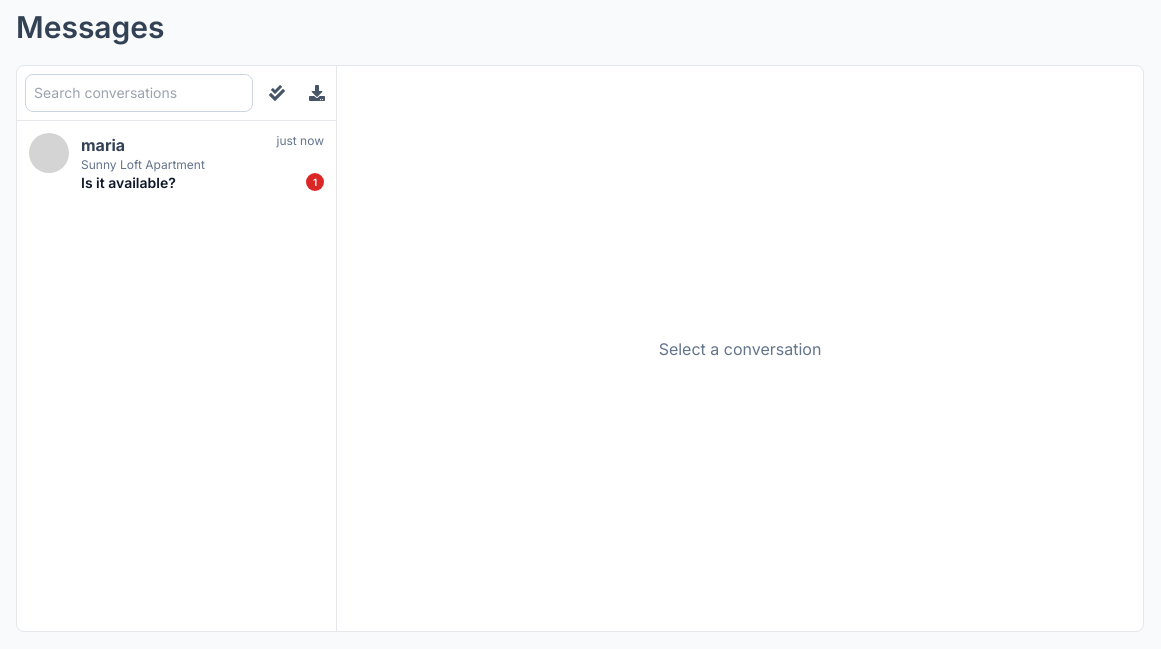
Test: Messages page › filters conversations by search
Expected: the text "maria" is shown, [81,133,125,157]
In the search field labelled "Search conversations": point(139, 93) [25,74,253,112], type "nothing matches"
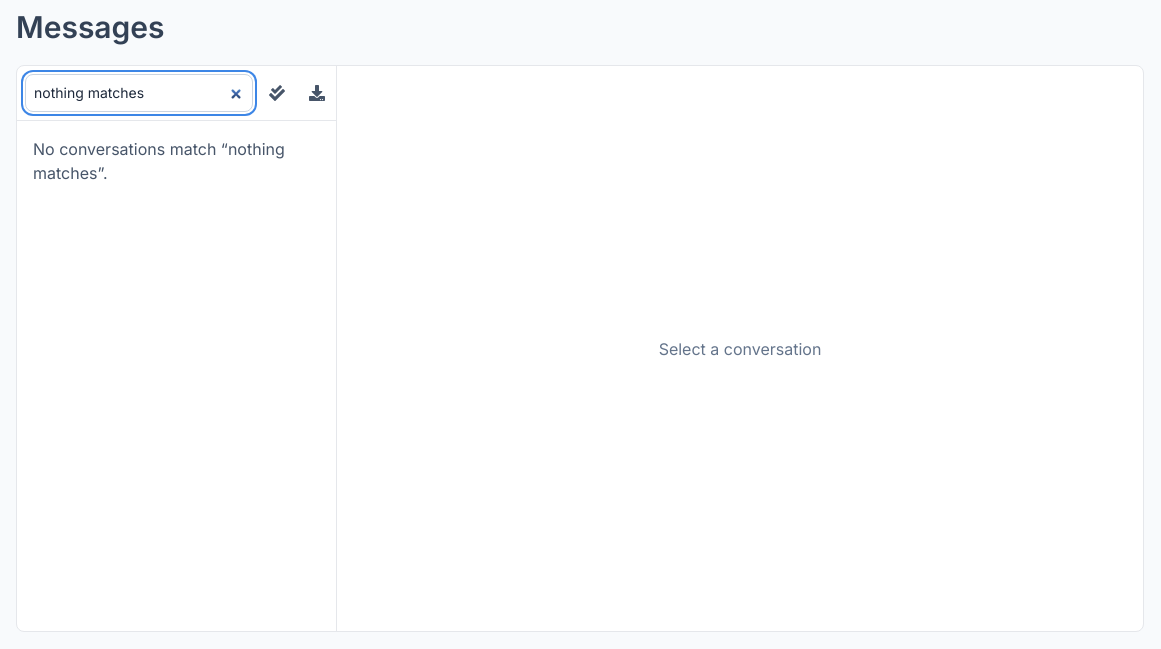
Result: the text "No conversations match “nothing matches”." is shown at [33,139,285,183]
Result: the link "maria" is gone
